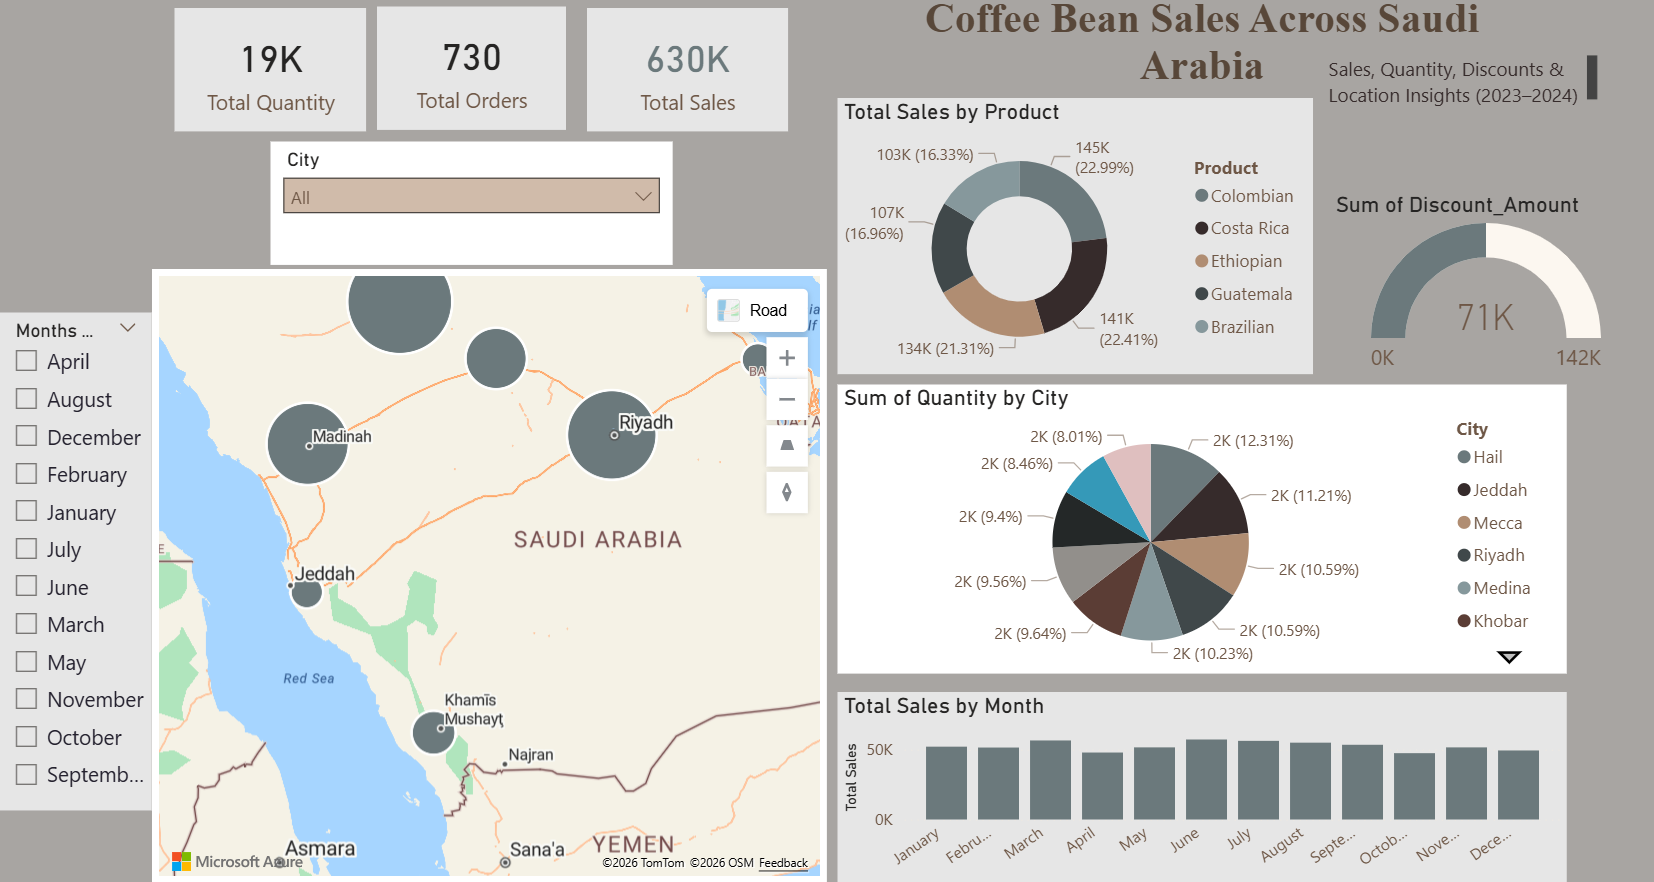

The dashboard page shown, as its layout file describes it:
{"tool":"powerbi","page":{"name":"Page 1","canvas":[1280,720],"ordinal":0},"visuals":[{"type":"card","fields":{"Values":["DatasetForCoffeeSales2.Total Orders"]},"box":[292,42.9,146,95],"z":0},{"type":"clusteredColumnChart","fields":{"Category":["DatasetForCoffeeSales2.Date.Variation.Date Hierarchy.Month"],"Y":["DatasetForCoffeeSales2.Total Sales"]},"box":[647.7,572.4,563.1,147.2],"z":1000},{"type":"donutChart","fields":{"Category":["DatasetForCoffeeSales2.Product"],"Y":["DatasetForCoffeeSales2.Total Sales"]},"box":[647.7,113.6,367.3,213.2],"z":2000},{"type":"card","fields":{"Values":["DatasetForCoffeeSales2.Total Quantity"]},"box":[135.6,44,148.3,95],"z":3000},{"type":"card","fields":{"Values":["DatasetForCoffeeSales2.Total Sales"]},"box":[454.2,44,155.3,95],"z":4000},{"type":"actionButton","box":[0,0,100,40],"z":5000},{"type":"azureMap","fields":{"Y":["saudi_cities_geocoding.Latitude"],"X":["saudi_cities_geocoding.Longitude"],"Size":["DatasetForCoffeeSales2.Total Sales"]},"box":[118.2,245.7,521.4,473.9],"z":6000},{"type":"slicer","fields":{"Values":["DatasetForCoffeeSales2.City"]},"box":[209.7,147.2,310.5,95],"z":7000},{"type":"slicer","fields":{"Values":["DatasetForCoffeeSales2.Months Name"]},"box":[0,279.3,118.2,384.7],"z":8000},{"type":"pieChart","fields":{"Category":["DatasetForCoffeeSales2.City"],"Y":["Sum(DatasetForCoffeeSales2.Quantity)"]},"box":[647.7,334.9,563.1,223.6],"z":9000},{"type":"gauge","fields":{"Y":["Sum(DatasetForCoffeeSales2.Discount_Amount)"]},"box":[1027.8,185.4,241,149.5],"z":10000},{"type":"textbox","box":[689.4,27.8,479.7,85.7],"z":11000},{"type":"textbox","box":[1022,75.3,217.8,54.5],"z":12000}]}

Visuals, with their boxes in screenshot pixels (x1, y1, x2, y2):
card - DatasetForCoffeeSales2.Total Orders: box=[371, 4, 561, 128]
clusteredColumnChart - DatasetForCoffeeSales2.Date.Variation.Date Hierarchy.Month x DatasetForCoffeeSales2.Total Sales: box=[833, 692, 1565, 881]
donutChart - DatasetForCoffeeSales2.Product x DatasetForCoffeeSales2.Total Sales: box=[833, 96, 1311, 373]
card - DatasetForCoffeeSales2.Total Quantity: box=[168, 6, 360, 129]
card - DatasetForCoffeeSales2.Total Sales: box=[582, 6, 784, 129]
azureMap - saudi_cities_geocoding.Latitude x saudi_cities_geocoding.Longitude: box=[145, 268, 823, 881]
slicer - DatasetForCoffeeSales2.City: box=[264, 140, 668, 263]
slicer - DatasetForCoffeeSales2.Months Name: box=[0, 311, 145, 811]
pieChart - DatasetForCoffeeSales2.City x Sum(DatasetForCoffeeSales2.Quantity): box=[833, 384, 1565, 674]
gauge - Sum(DatasetForCoffeeSales2.Discount_Amount): box=[1327, 189, 1641, 384]
textbox: box=[888, 0, 1511, 96]
textbox: box=[1320, 46, 1603, 117]
